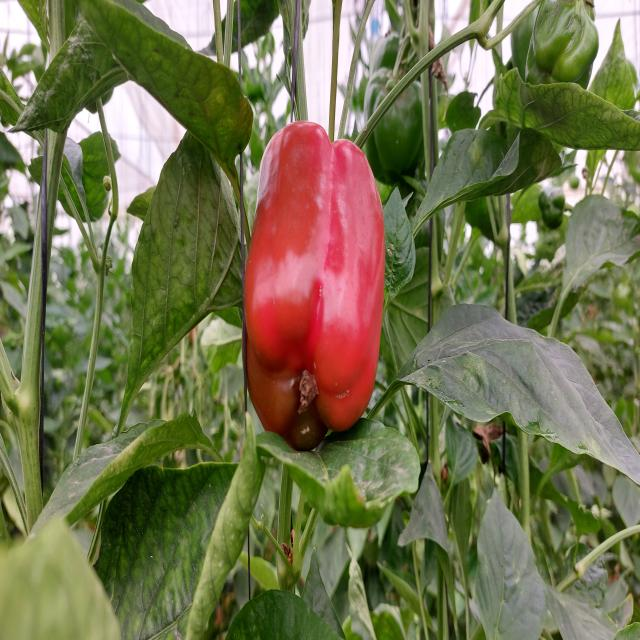Red-Ready-to-Harvest: (246, 130, 381, 455)
